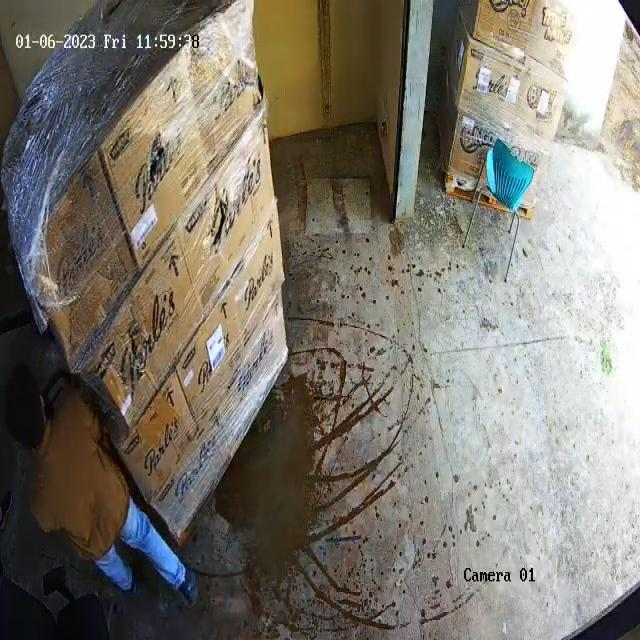leakage: (135, 140, 177, 205), (208, 197, 235, 255), (126, 345, 146, 390)
